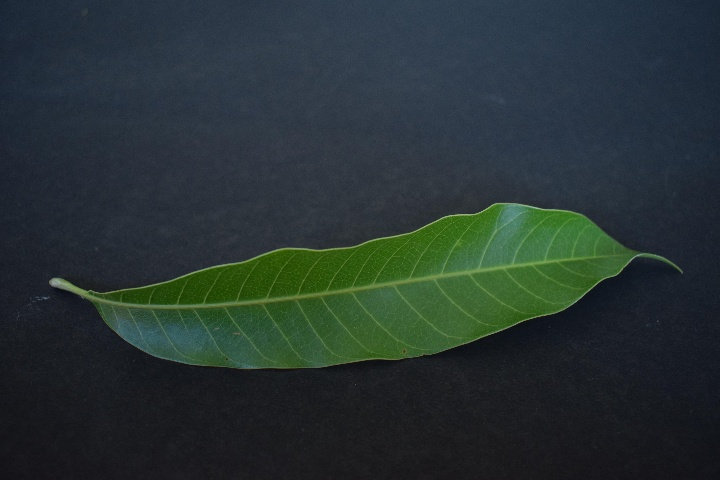healthy: (89, 199, 642, 375)
